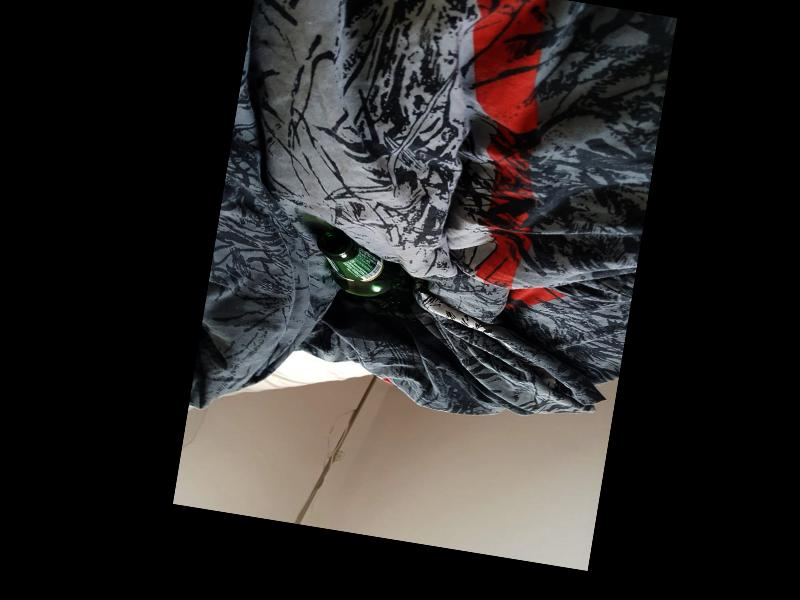Beer: (307, 226, 425, 313)
